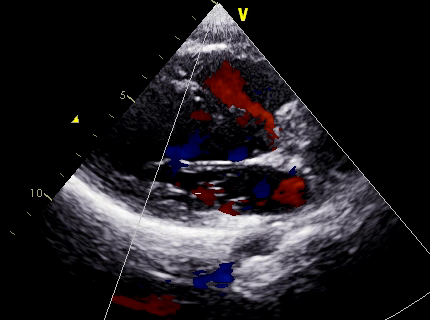AR: (196, 110, 280, 167)
